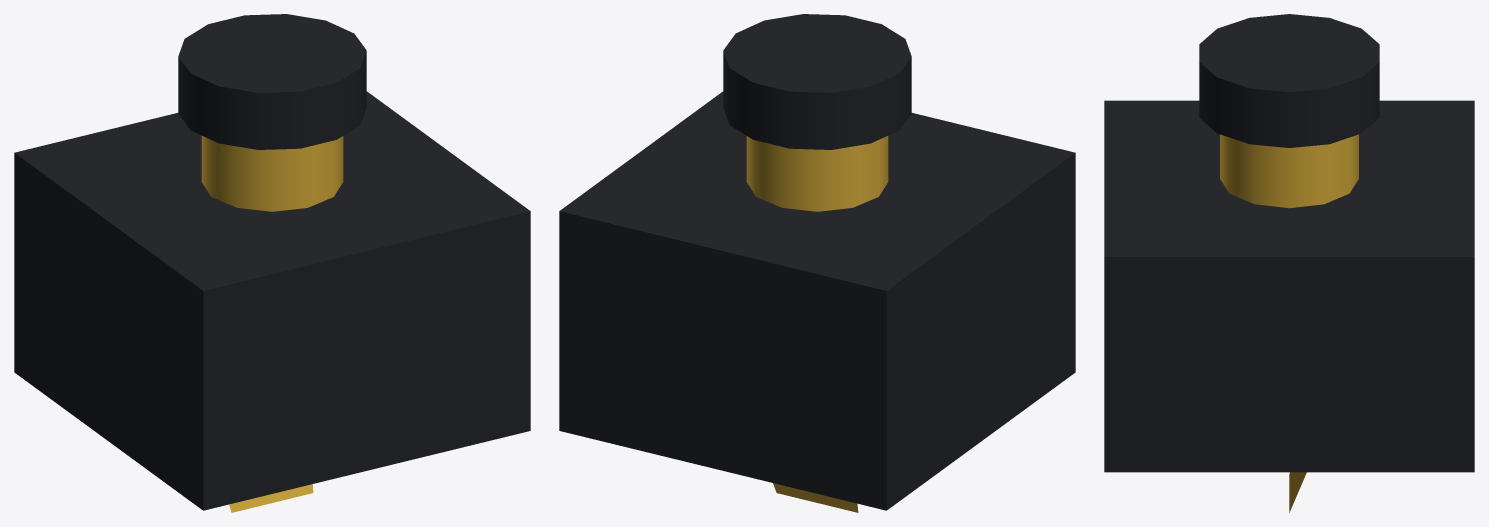
File: Rheostat_Slider.obj
The picture shows the model from 3 angles, left to right: view 1: azimuth 30°, elevation 25°; view 2: azimuth 150°, elevation 25°; view 3: azimuth 270°, elevation 25°; orthographic projection. The views are drawn at different scales.
Size of the model in its own units: 0.024 by 0.0315 by 0.024.
